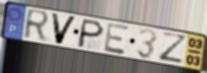3: (136, 28, 161, 60)
E: (103, 22, 131, 57)
P: (75, 18, 106, 49)
R: (22, 7, 52, 44)
V: (50, 11, 79, 46)
Z: (158, 30, 189, 65)
